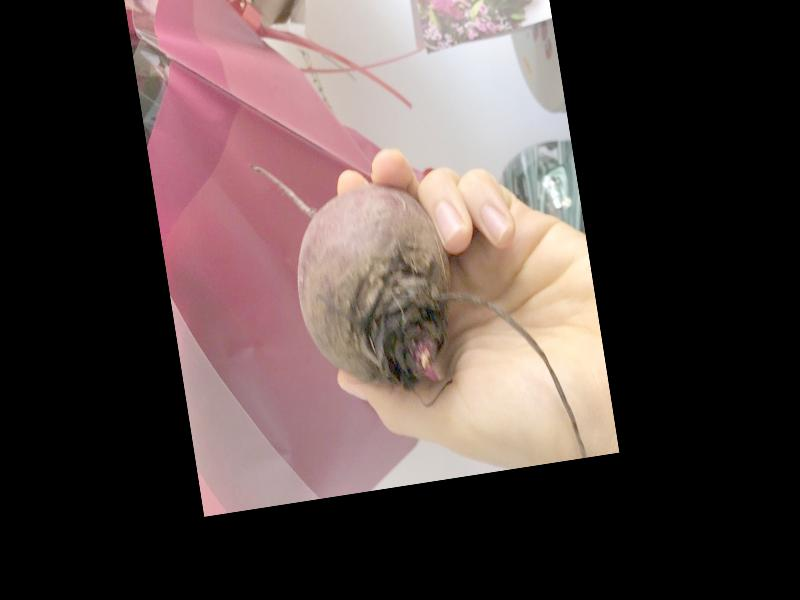Beet: (249, 119, 586, 497)
